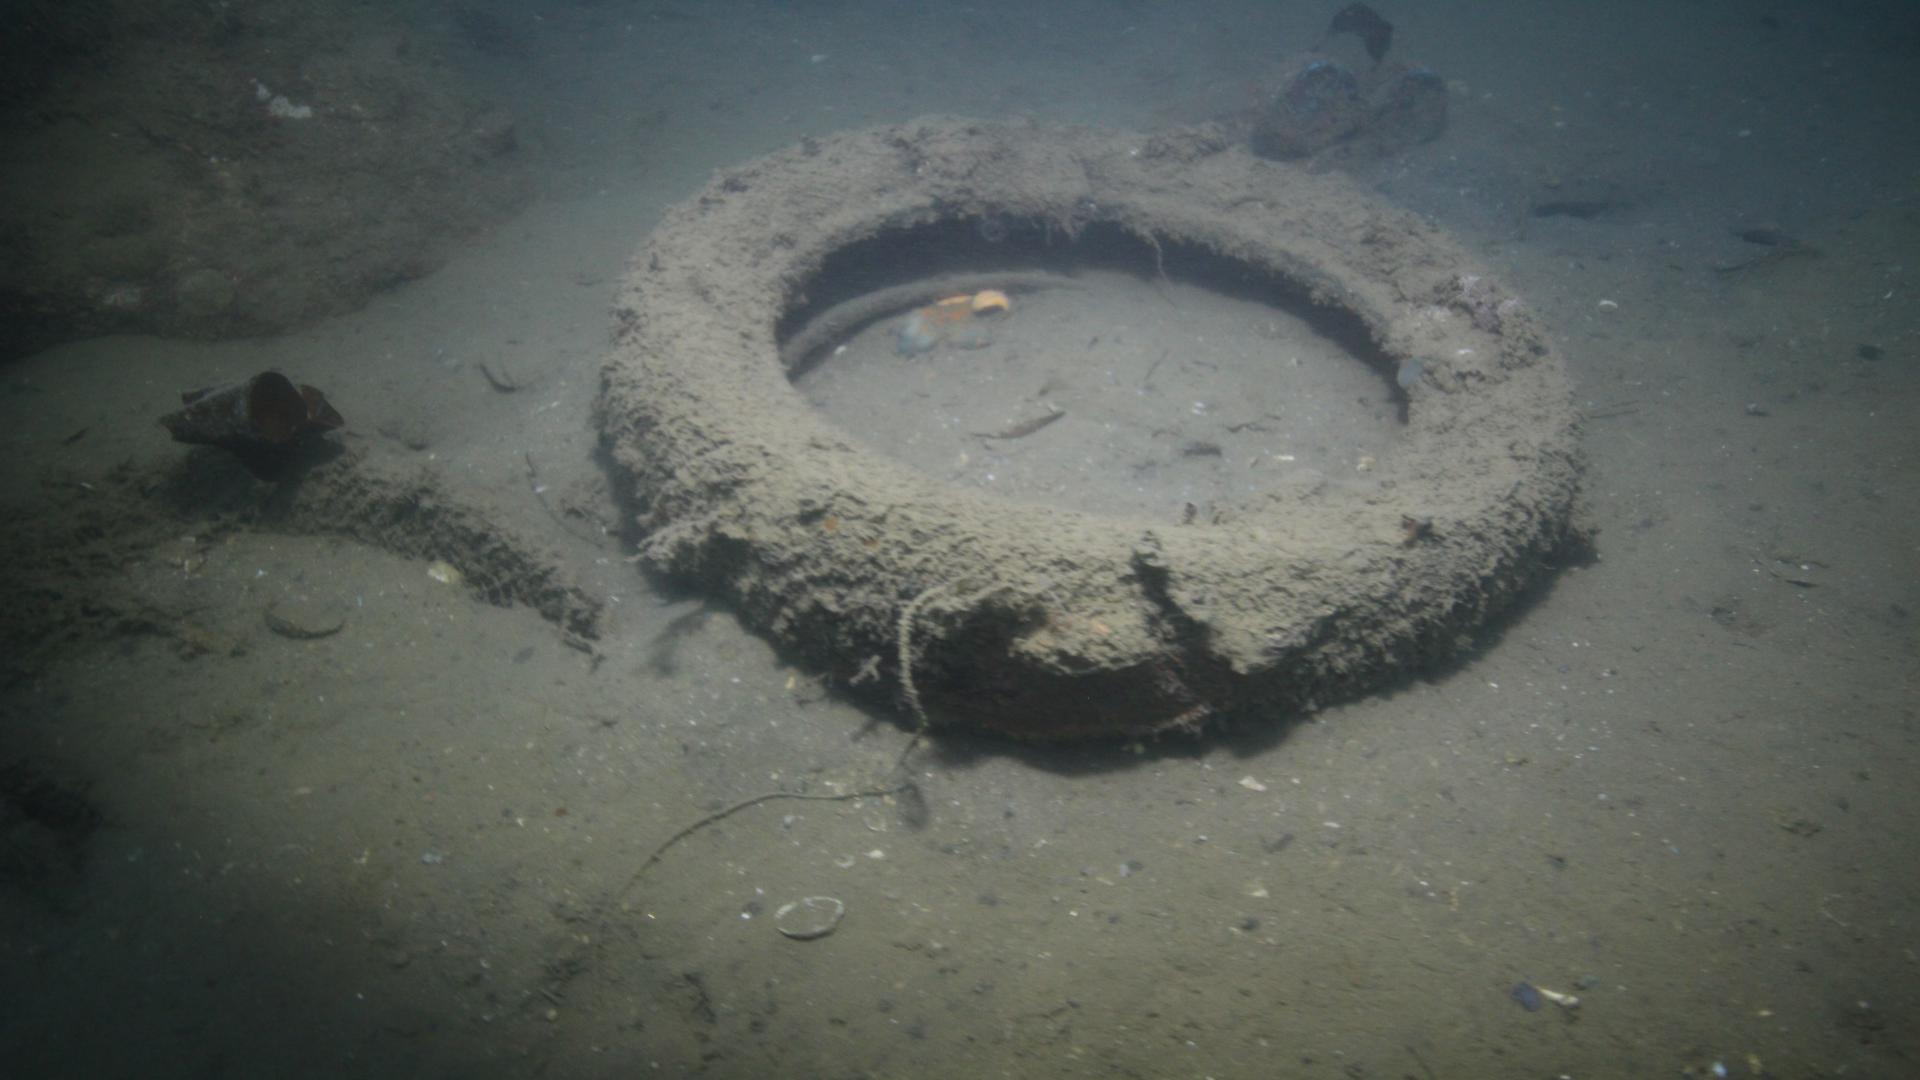fish net: (150, 476, 579, 626)
tire: (599, 109, 1586, 742)
